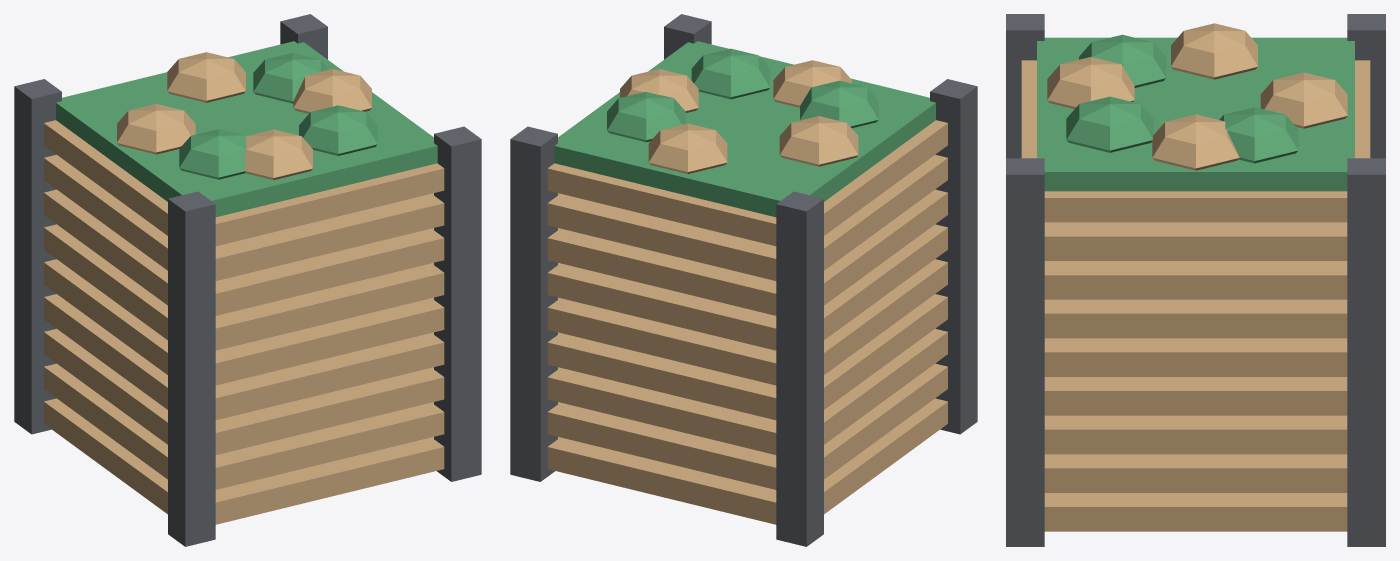
The model's file is lawn-mowing-simulator-kit-compost-bin-59049a1e__27411.glb.
3 renders of one model, left to right at view 1: azimuth 30°, elevation 25°; view 2: azimuth 150°, elevation 25°; view 3: azimuth 270°, elevation 25°, orthographic. The views are drawn at different scales.
Visible parts, largest first — view 1: compost-bin; view 2: compost-bin; view 3: compost-bin.
Part boxes in pixels (x1=…): compost-bin: x1=14, y1=14, x2=481, y2=546; compost-bin: x1=510, y1=14, x2=977, y2=546; compost-bin: x1=1006, y1=14, x2=1385, y2=546.
Bounding box in the file's own units: 0.98 × 1.11 × 0.98.
